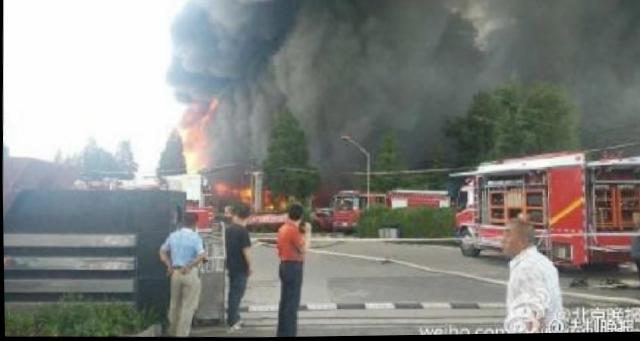fire: (179, 124, 208, 172), (214, 181, 250, 199)
